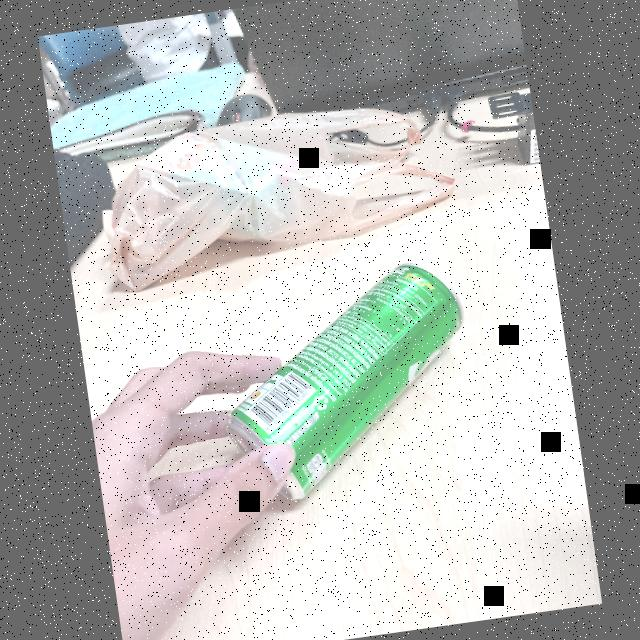can: (204, 237, 497, 524)
